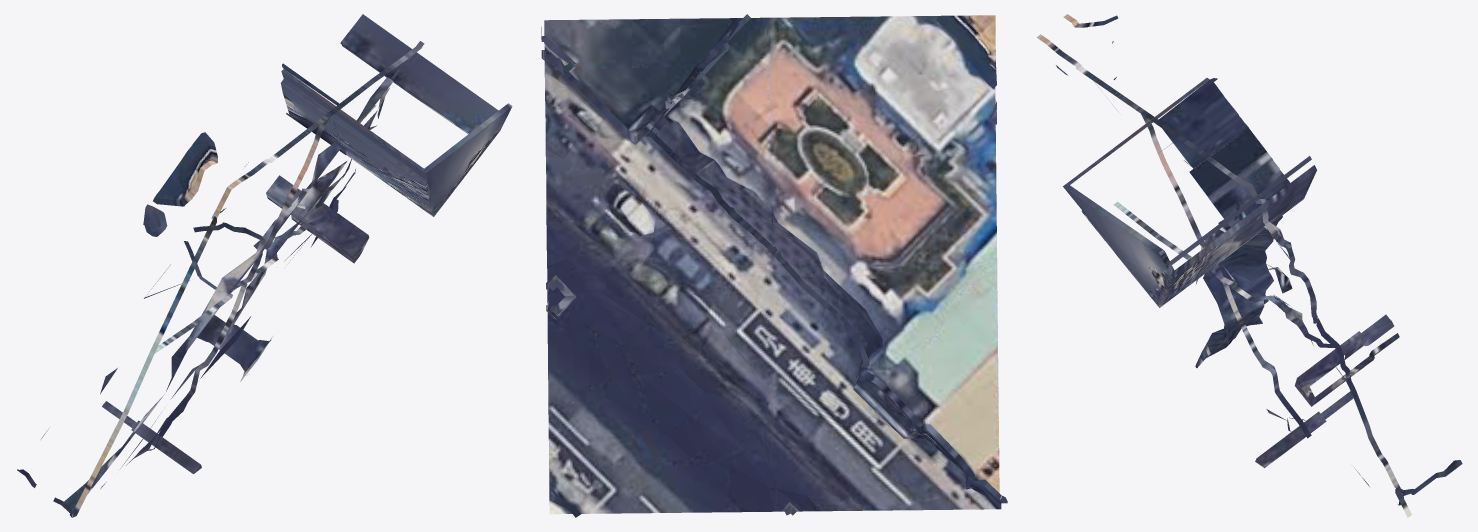
3 views of the same model, side by side, from view 1: azimuth 30°, elevation 25°; view 2: azimuth 150°, elevation 25°; view 3: azimuth 270°, elevation 25° (orthographic). The views are drawn at different scales.
Size of the model in its own units: 45.73 by 39.07 by 36.05.
2 materials, 2 textured.
